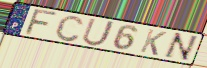6: (112, 25, 139, 51)
C: (54, 15, 86, 43)
F: (22, 8, 60, 36)
K: (139, 28, 169, 58)
N: (162, 32, 200, 63)
U: (80, 17, 117, 48)
